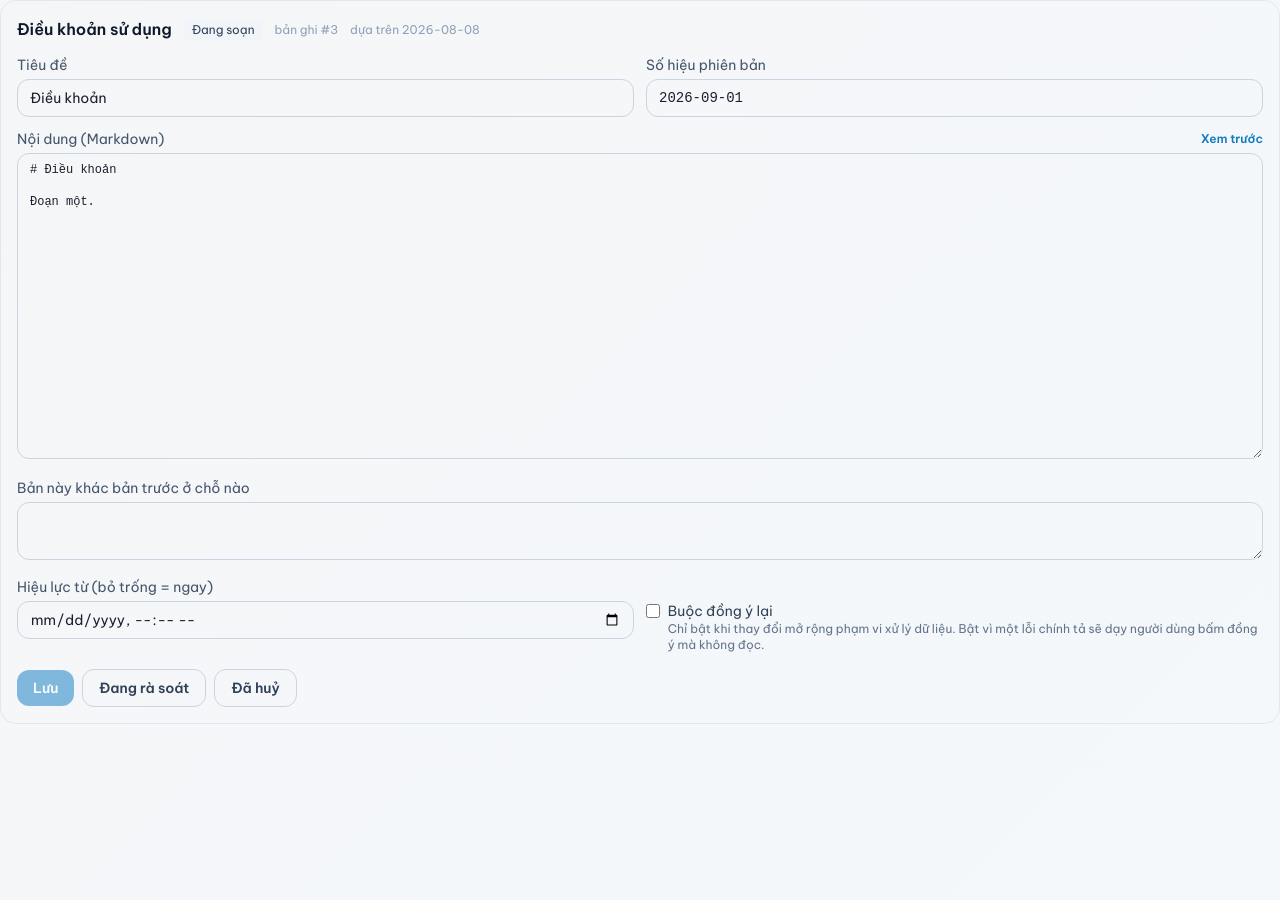
Test: DraftEditor — xung đột ghi › hiện lỗi thường mà KHÔNG bật màn hình xung đột
This screenshot has width=1280, height=900.
Replace the text in the text box named "Nội dung" with "# x": {"x": 640, "y": 306} x1=17 y1=153 x2=1263 y2=459
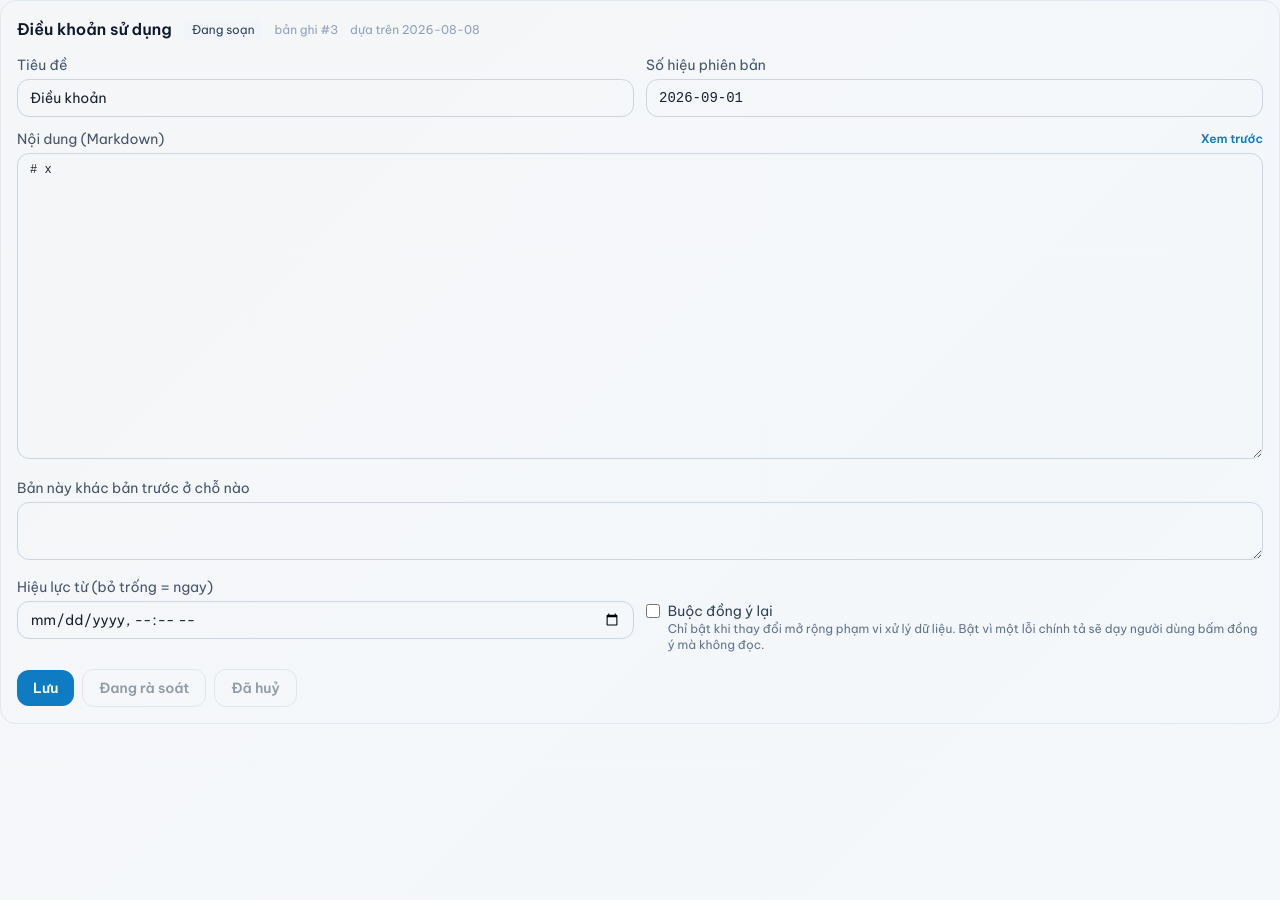
Click the button "Lưu": {"x": 46, "y": 688} x1=17 y1=670 x2=74 y2=706
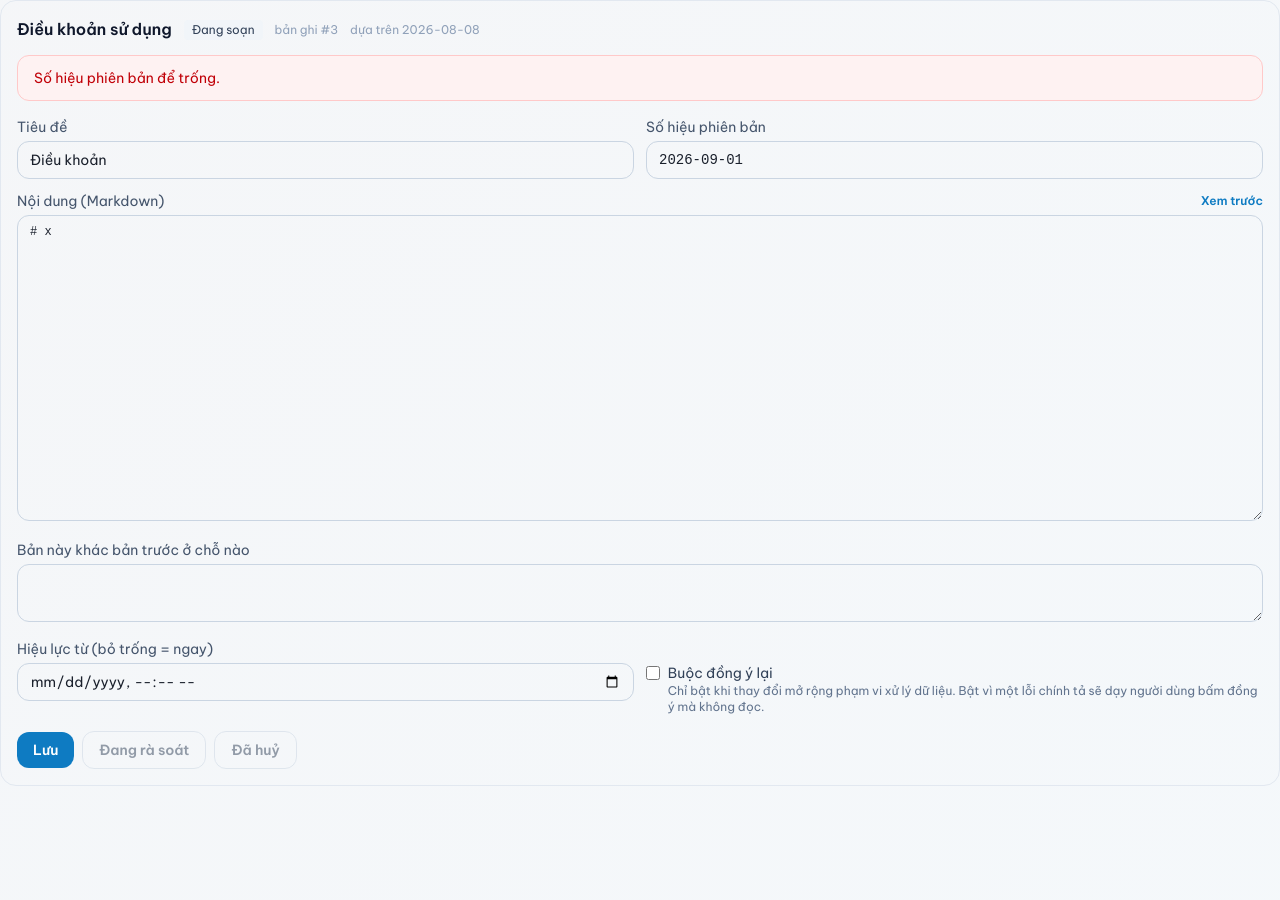
Expected: the text "Số hiệu phiên bản để trống." is shown, x1=17 y1=55 x2=1263 y2=101
